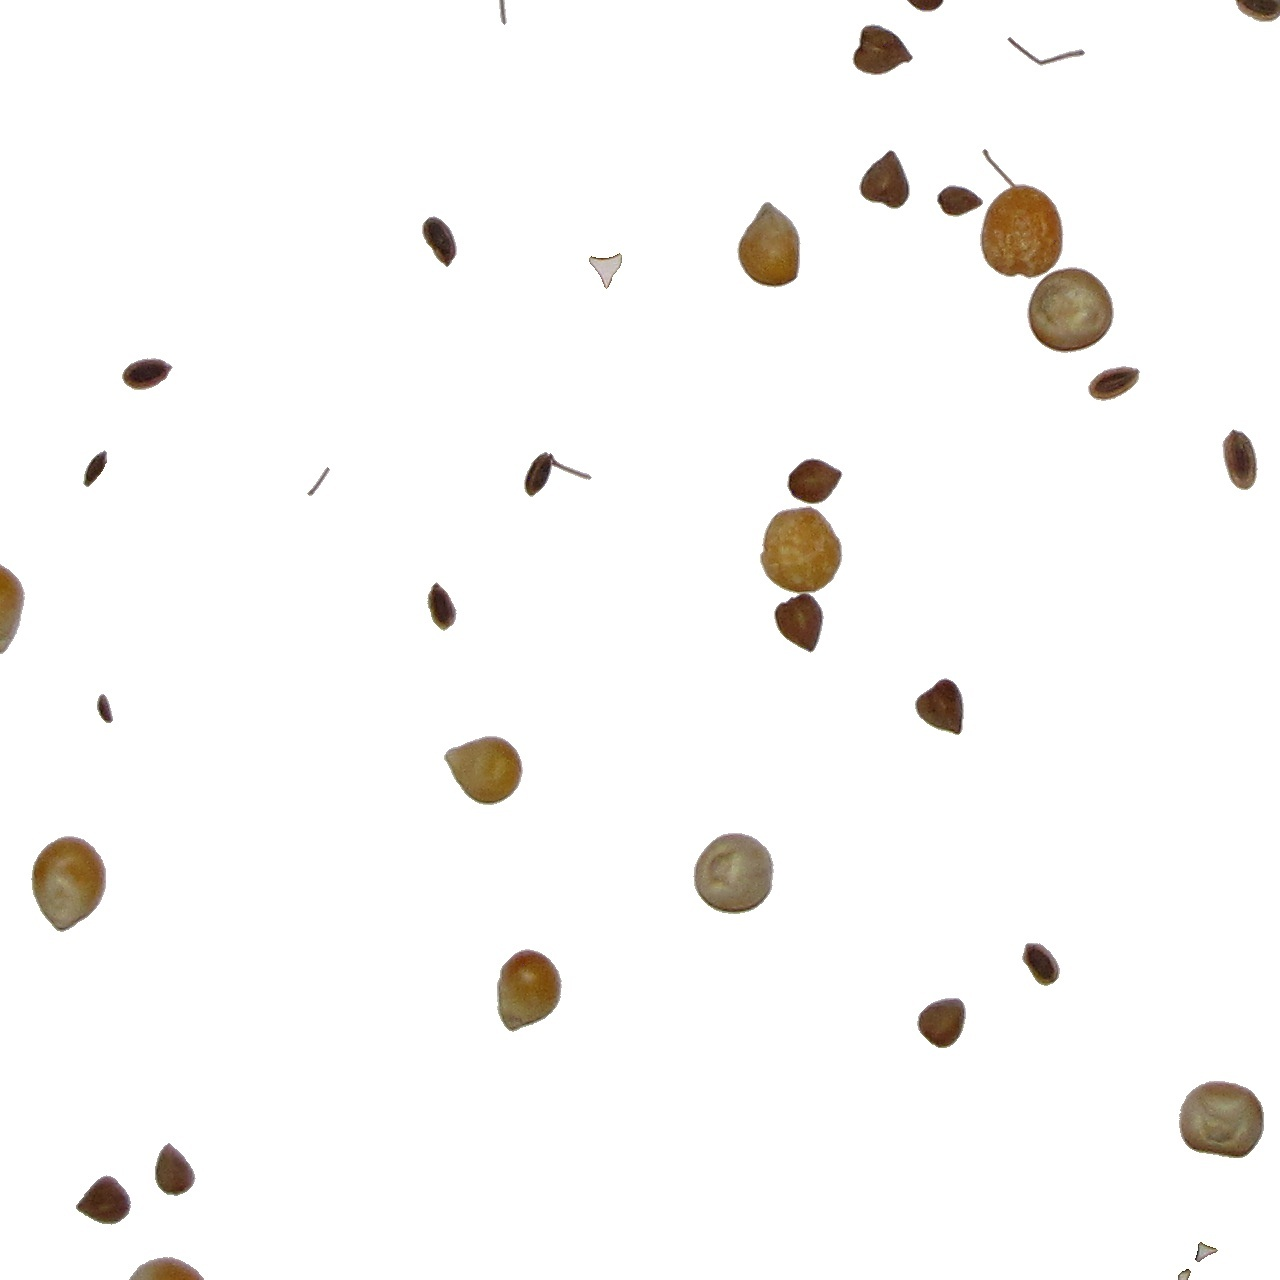buckwheat: (772, 591, 825, 654), (851, 23, 914, 76), (858, 149, 911, 210), (75, 1175, 132, 1226), (914, 674, 965, 733), (787, 457, 844, 505), (915, 998, 967, 1049), (154, 1142, 197, 1197), (421, 215, 458, 268), (121, 358, 173, 392), (1021, 942, 1061, 987), (425, 584, 458, 635), (86, 451, 113, 501), (588, 252, 622, 290), (306, 467, 331, 497)
dill: (523, 451, 593, 498)
mais: (979, 182, 1065, 280), (1026, 266, 1115, 354), (760, 505, 844, 595), (30, 835, 107, 933), (692, 832, 775, 915), (1178, 1080, 1265, 1159), (736, 200, 802, 290), (443, 735, 524, 806), (496, 948, 563, 1033), (1, 563, 25, 667), (117, 1257, 209, 1280)
other: (1006, 36, 1085, 67), (1221, 428, 1259, 491), (1087, 365, 1141, 402), (931, 184, 983, 222), (96, 693, 114, 724), (1194, 1241, 1219, 1262), (1177, 1268, 1193, 1280)
